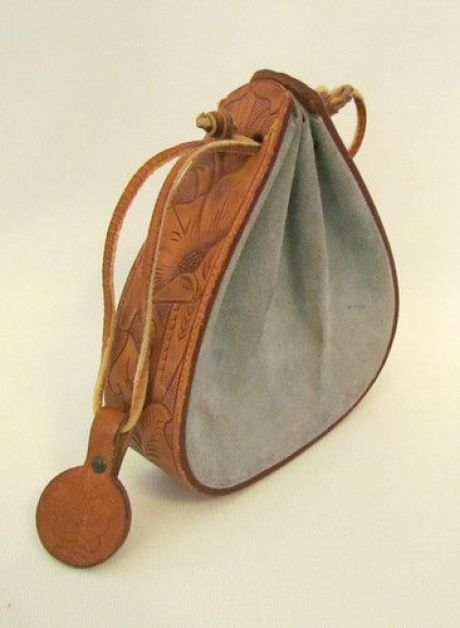cuero: (36, 69, 292, 570)
